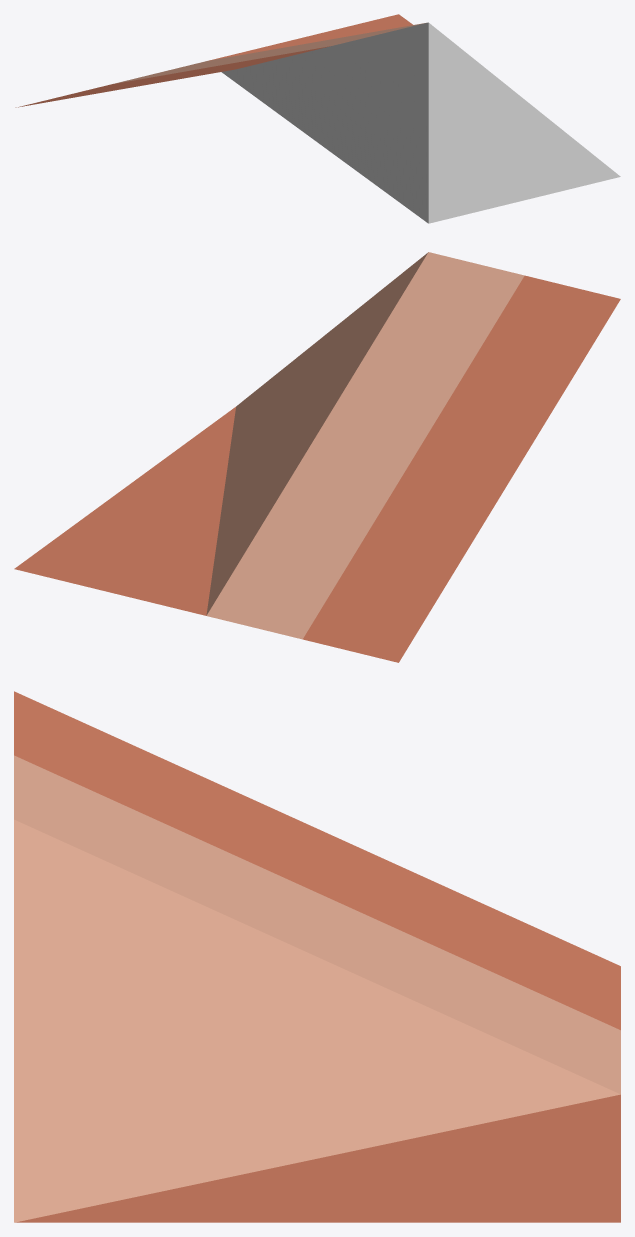
Rendered from terrain_sideEnd.glb.
The picture shows the model from 3 angles, top to bottom: view 1: azimuth 30°, elevation 25°; view 2: azimuth 150°, elevation 25°; view 3: azimuth 270°, elevation 25°; orthographic projection. The views are drawn at different scales.
Parts seen in each view (by area): view 1: terrain_sideEnd; view 2: terrain_sideEnd; view 3: terrain_sideEnd.
Boxes of the visible parts, x1,y1,x2,y2 form: terrain_sideEnd: (15, 14, 620, 223); terrain_sideEnd: (14, 252, 620, 662); terrain_sideEnd: (14, 691, 620, 1222).
Bounding box in the file's own units: 1.4 × 0.702 × 1.4.
